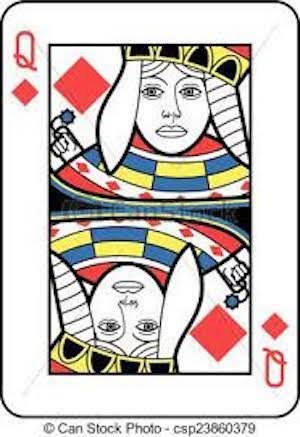QueenOfDiamonds: (4, 6, 298, 424)
